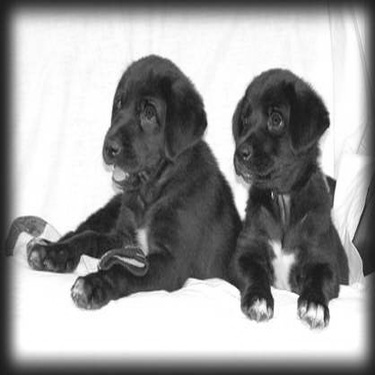dog: (23, 46, 243, 313), (224, 62, 351, 333)
